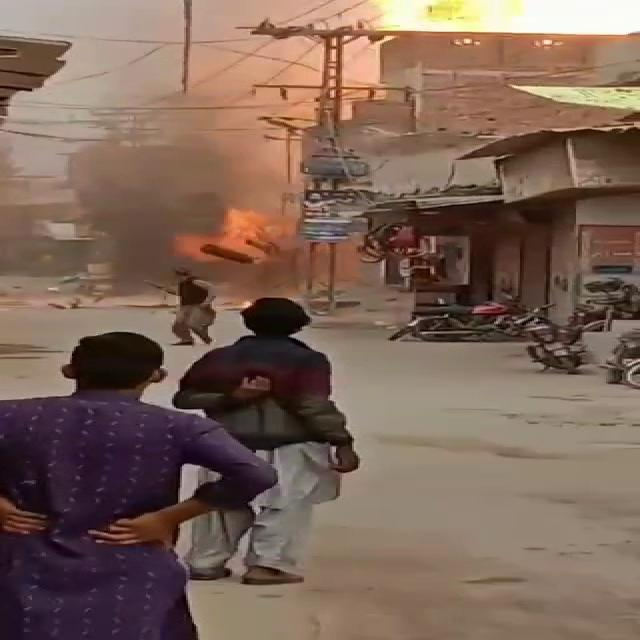Fire: (176, 206, 294, 268)
Smoke: (70, 146, 226, 280)
